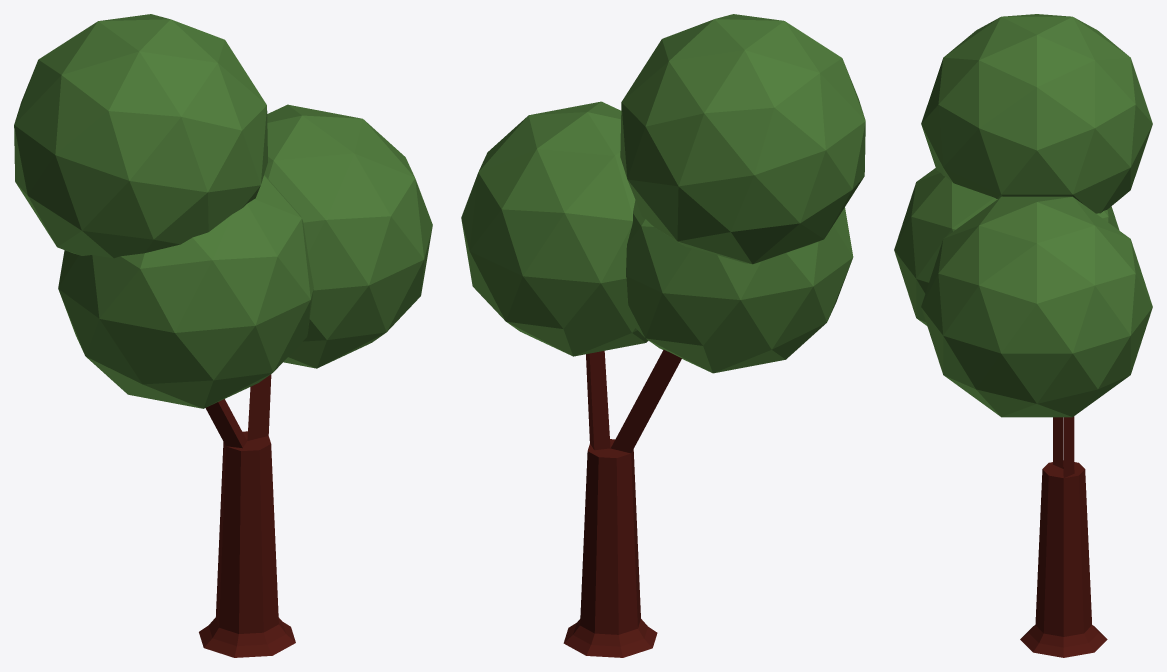
Rendered from agac1.fbx.
The picture shows the model from 3 angles, left to right: view 1: azimuth 30°, elevation 25°; view 2: azimuth 150°, elevation 25°; view 3: azimuth 270°, elevation 25°; orthographic projection. The views are drawn at different scales.
Visible parts, largest first — view 1: Cylinder; view 2: Cylinder; view 3: Cylinder.
Boxes of the visible parts, left/top/right/bottom form: Cylinder: left=14, top=14, right=432, bottom=657; Cylinder: left=461, top=14, right=865, bottom=657; Cylinder: left=894, top=14, right=1152, bottom=657.
Bounding box in the file's own units: 77.65 × 126 × 52.19.
